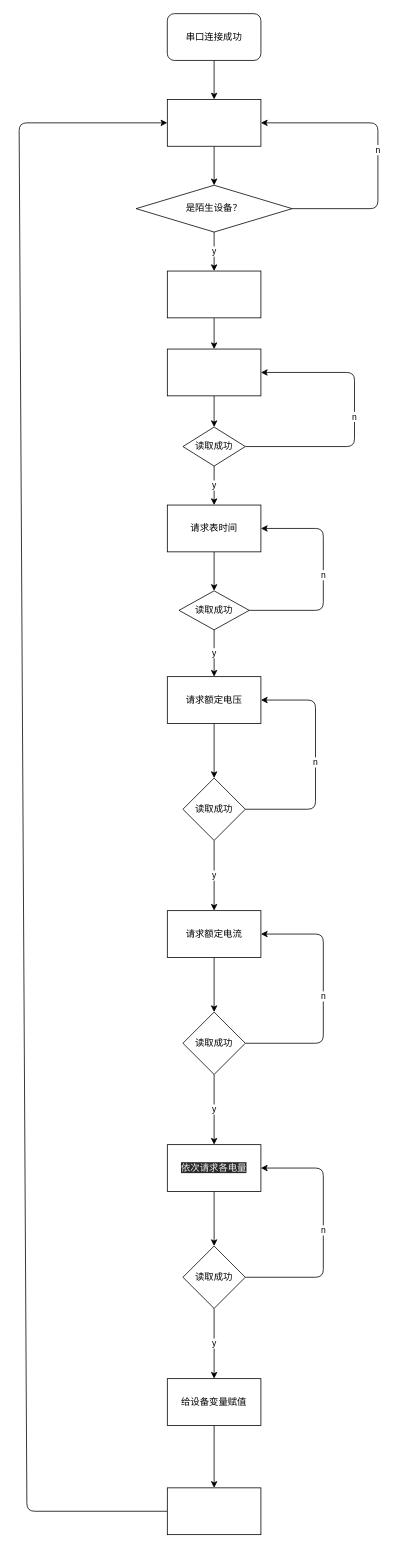
Image size: 398x1548. Some labels were removed from this diagram. Here are the shapes that lost their labels. From the top down, the centre of each, then its label:
At [214,122]: "一定周期，读通信地址".
At [214,294]: "加入设备记录".
At [214,372]: "请求表号".
At [214,1511]: "在主界面显示".
